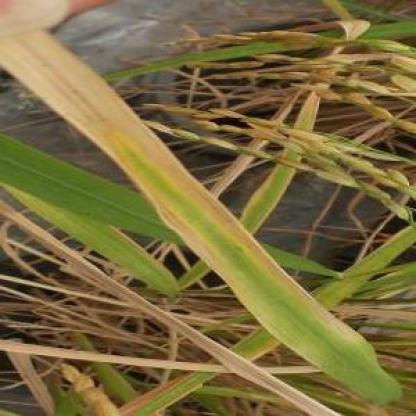Blight: (5, 30, 405, 413)
